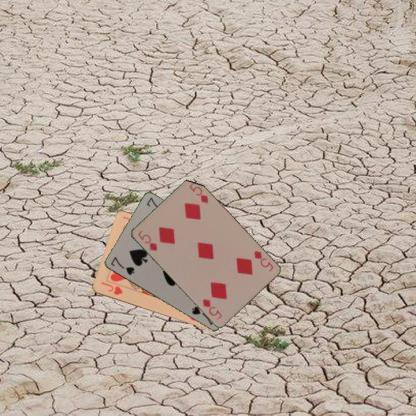5d: (135, 227, 158, 252), (251, 248, 274, 273)
7s: (108, 254, 136, 276)
Jh: (98, 278, 124, 297)
